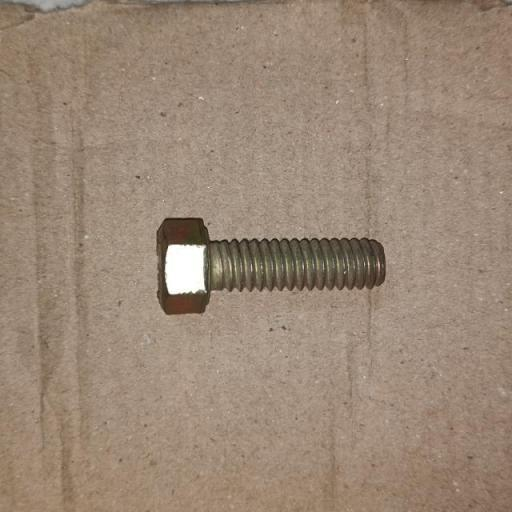Bolt: (155, 217, 386, 316)
